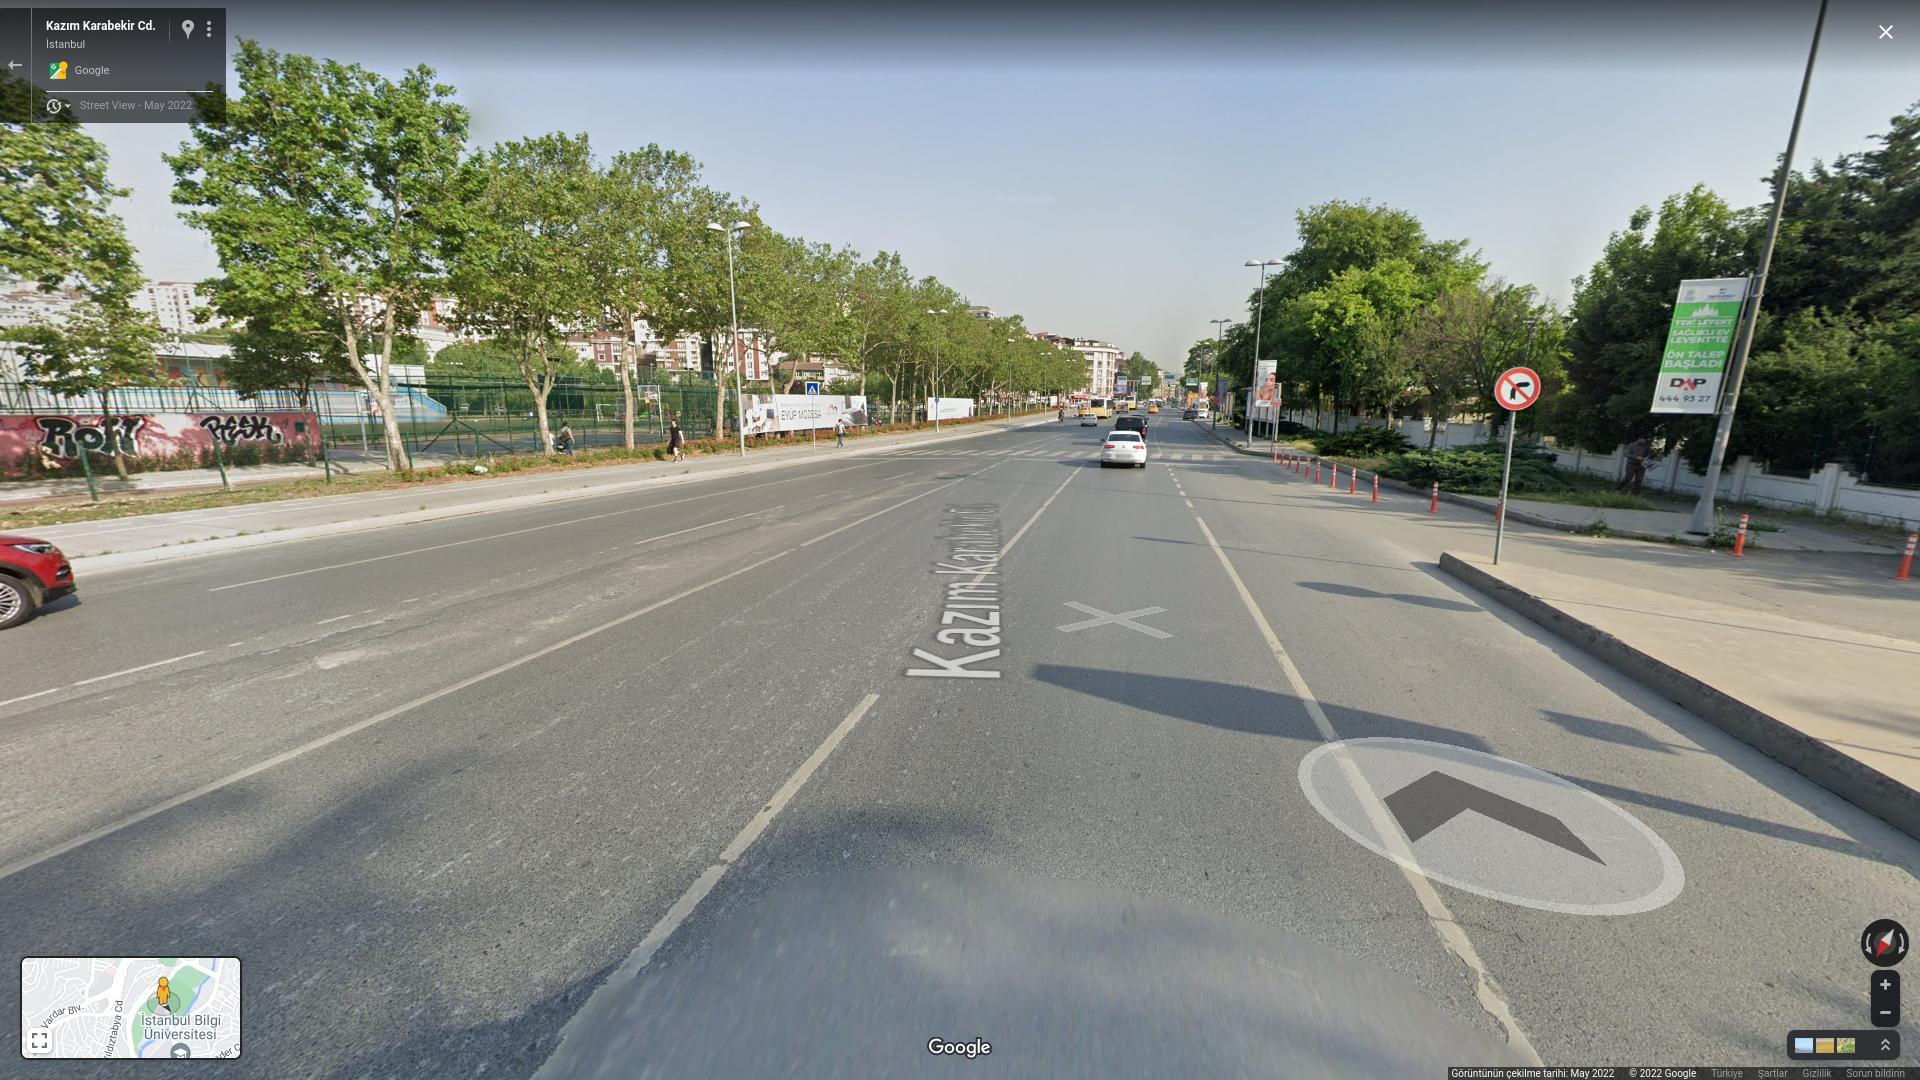rightturnsareforbidden: (1497, 368, 1543, 410)
